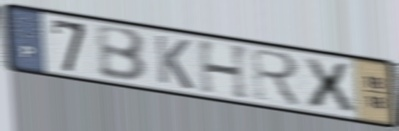7: (50, 17, 88, 74)
B: (93, 24, 149, 85)
H: (195, 38, 252, 102)
K: (153, 32, 196, 92)
R: (249, 45, 305, 110)
X: (299, 55, 359, 114)
